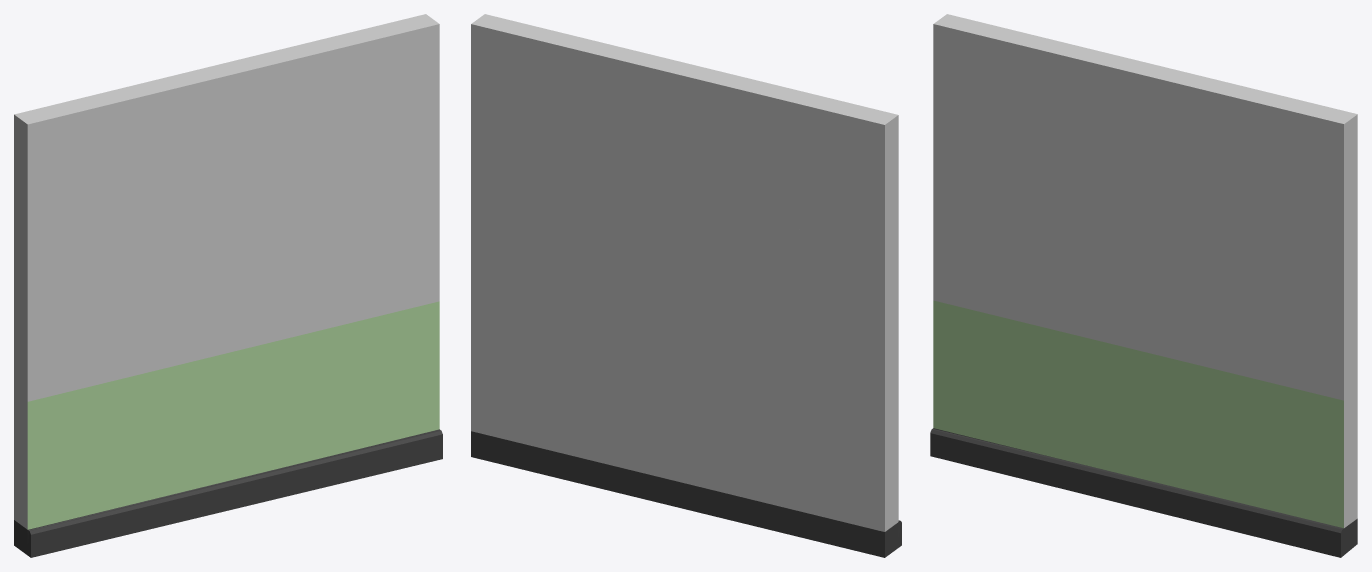
File: Fragmented_Wall.fbx
3 renders of one model, left to right at view 1: azimuth 30°, elevation 25°; view 2: azimuth 150°, elevation 25°; view 3: azimuth 330°, elevation 25°, orthographic.
Parts seen in each view (by area): view 1: Wall_05x5_LowPoly_41, Wall_05x5_LowPoly_34, Wall_05x5_LowPoly_6, Wall_05x5_LowPoly_37, Wall_05x5_LowPoly_23, Wall_05x5_LowPoly_35, Wall_05x5_LowPoly_16, Wall_05x5_LowPoly_39, Wall_05x5_LowPoly_28, Wall_05x5_LowPoly_12, Wall_05x5_LowPoly_11, Wall_05x5_LowPoly_2 (+27 smaller); view 2: Wall_05x5_LowPoly_41, Wall_05x5_LowPoly_34, Wall_05x5_LowPoly_35, Wall_05x5_LowPoly_23, Wall_05x5_LowPoly_31, Wall_05x5_LowPoly_21, Wall_05x5_LowPoly_16, Wall_05x5_LowPoly_36, Wall_05x5_LowPoly_19, Wall_05x5_LowPoly_6, Wall_05x5_LowPoly_12, Wall_05x5_LowPoly_37 (+25 smaller); view 3: Wall_05x5_LowPoly_41, Wall_05x5_LowPoly_34, Wall_05x5_LowPoly_37, Wall_05x5_LowPoly_6, Wall_05x5_LowPoly_23, Wall_05x5_LowPoly_35, Wall_05x5_LowPoly_16, Wall_05x5_LowPoly_39, Wall_05x5_LowPoly_28, Wall_05x5_LowPoly_11, Wall_05x5_LowPoly_18, Wall_05x5_LowPoly_25 (+27 smaller).
Boxes of the visible parts, x1=… form: Wall_05x5_LowPoly_41: x1=14, y1=429, x2=442, y2=557; Wall_05x5_LowPoly_34: x1=320, y1=14, x2=439, y2=145; Wall_05x5_LowPoly_6: x1=140, y1=373, x2=252, y2=500; Wall_05x5_LowPoly_37: x1=339, y1=138, x2=439, y2=295; Wall_05x5_LowPoly_23: x1=215, y1=305, x2=355, y2=409; Wall_05x5_LowPoly_35: x1=44, y1=93, x2=137, y2=248; Wall_05x5_LowPoly_16: x1=252, y1=40, x2=342, y2=159; Wall_05x5_LowPoly_39: x1=97, y1=80, x2=192, y2=196; Wall_05x5_LowPoly_28: x1=111, y1=192, x2=197, y2=290; Wall_05x5_LowPoly_12: x1=14, y1=100, x2=81, y2=229; Wall_05x5_LowPoly_11: x1=71, y1=333, x2=140, y2=441; Wall_05x5_LowPoly_2: x1=14, y1=221, x2=76, y2=334; Wall_05x5_LowPoly_41: x1=471, y1=431, x2=901, y2=557; Wall_05x5_LowPoly_34: x1=471, y1=14, x2=592, y2=138; Wall_05x5_LowPoly_35: x1=759, y1=98, x2=870, y2=249; Wall_05x5_LowPoly_23: x1=568, y1=290, x2=689, y2=413; Wall_05x5_LowPoly_31: x1=684, y1=321, x2=795, y2=433; Wall_05x5_LowPoly_21: x1=492, y1=85, x2=609, y2=214; Wall_05x5_LowPoly_16: x1=572, y1=40, x2=664, y2=177; Wall_05x5_LowPoly_36: x1=502, y1=213, x2=586, y2=356; Wall_05x5_LowPoly_19: x1=789, y1=229, x2=873, y2=349; Wall_05x5_LowPoly_6: x1=655, y1=383, x2=764, y2=500; Wall_05x5_LowPoly_12: x1=827, y1=102, x2=898, y2=245; Wall_05x5_LowPoly_37: x1=471, y1=135, x2=557, y2=278; Wall_05x5_LowPoly_41: x1=930, y1=428, x2=1357, y2=557; Wall_05x5_LowPoly_34: x1=1236, y1=88, x2=1357, y2=237; Wall_05x5_LowPoly_37: x1=1244, y1=225, x2=1357, y2=377; Wall_05x5_LowPoly_6: x1=1046, y1=363, x2=1158, y2=473; Wall_05x5_LowPoly_23: x1=1120, y1=338, x2=1259, y2=424; Wall_05x5_LowPoly_35: x1=949, y1=28, x2=1043, y2=175; Wall_05x5_LowPoly_16: x1=1157, y1=74, x2=1251, y2=201; Wall_05x5_LowPoly_39: x1=1003, y1=35, x2=1097, y2=155; Wall_05x5_LowPoly_28: x1=1016, y1=150, x2=1102, y2=254; Wall_05x5_LowPoly_11: x1=977, y1=261, x2=1045, y2=380; Wall_05x5_LowPoly_18: x1=1109, y1=268, x2=1219, y2=343; Wall_05x5_LowPoly_25: x1=1120, y1=418, x2=1228, y2=499.
Size of the model in its own units: 250 by 251 by 17.83.
